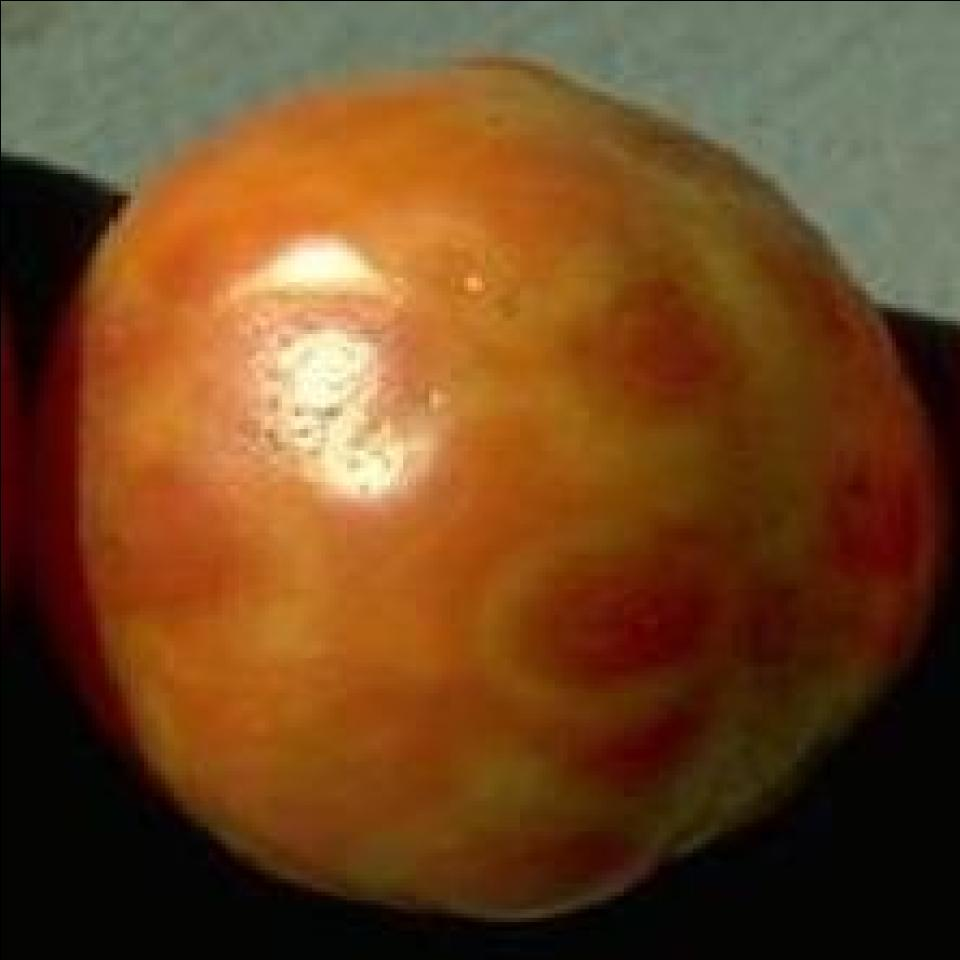Spotted wilt Virus: (46, 48, 944, 924)
